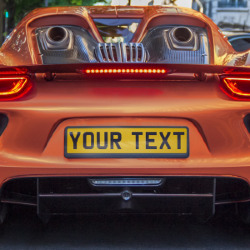number_plate: (63, 125, 190, 160)
